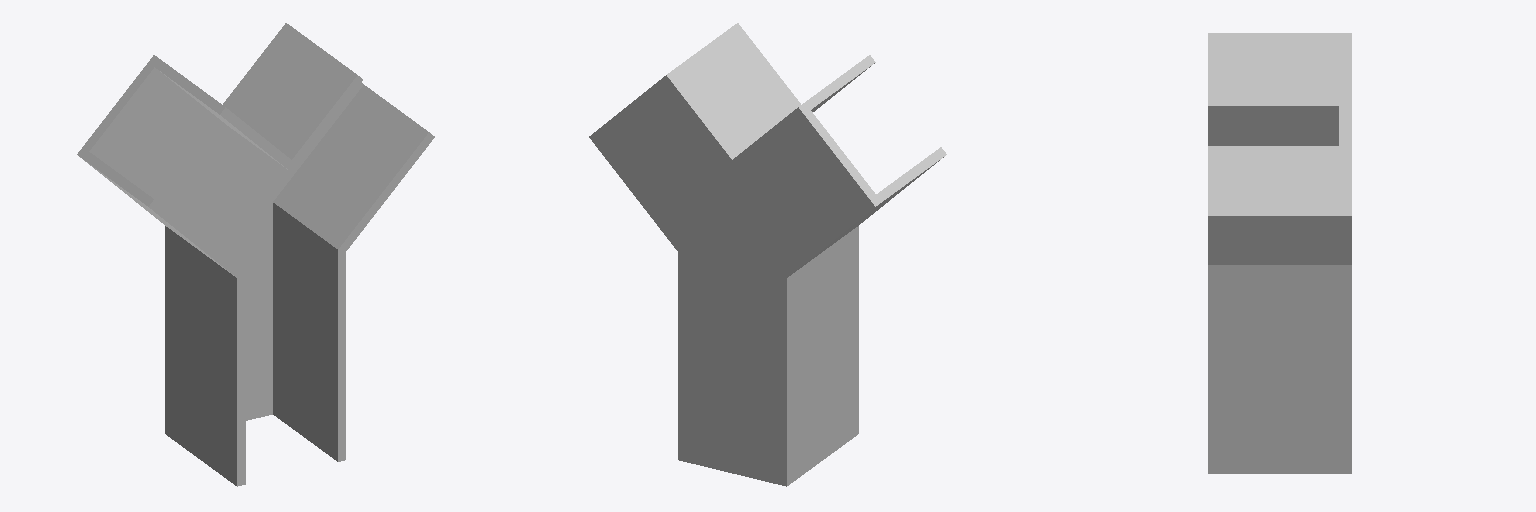
The picture shows the model from 3 angles: view 1: azimuth 30°, elevation 25°; view 2: azimuth 150°, elevation 25°; view 3: azimuth 270°, elevation 25°; orthographic projection.
Parts seen in each view (by area): view 1: A-WALL-EXTR 09___PAINT-13_GREEN, A-FLOR 09___PAINT-12_YELLOW, A-WALL-EXTR 09___PAINT-09_RED, A-WALL-EXTR 09___PAINT-16_BLUE, A-FLOR 09___PAINT-16_BLUE; view 2: A-FLOR 09___PAINT-12_YELLOW, A-WALL-EXTR 09___PAINT-09_RED, A-FLOR 09___PAINT-16_BLUE, A-WALL-EXTR 09___PAINT-16_BLUE; view 3: A-WALL-EXTR 09___PAINT-09_RED, A-WALL-EXTR 09___PAINT-13_GREEN, A-FLOR 09___PAINT-16_BLUE, A-WALL-EXTR 09___PAINT-16_BLUE.
Part boxes in pixels (left/top/right/bottom): A-WALL-EXTR 09___PAINT-13_GREEN: left=160, top=71, right=428, bottom=461; A-FLOR 09___PAINT-12_YELLOW: left=89, top=67, right=363, bottom=420; A-WALL-EXTR 09___PAINT-09_RED: left=87, top=27, right=356, bottom=485; A-WALL-EXTR 09___PAINT-16_BLUE: left=83, top=60, right=434, bottom=486; A-FLOR 09___PAINT-16_BLUE: left=77, top=23, right=291, bottom=438; A-FLOR 09___PAINT-12_YELLOW: left=589, top=75, right=874, bottom=486; A-WALL-EXTR 09___PAINT-09_RED: left=673, top=23, right=943, bottom=481; A-FLOR 09___PAINT-16_BLUE: left=667, top=70, right=881, bottom=485; A-WALL-EXTR 09___PAINT-16_BLUE: left=805, top=55, right=946, bottom=201; A-WALL-EXTR 09___PAINT-09_RED: left=1208, top=33, right=1338, bottom=473; A-WALL-EXTR 09___PAINT-13_GREEN: left=1208, top=106, right=1338, bottom=206; A-FLOR 09___PAINT-16_BLUE: left=1339, top=33, right=1351, bottom=473; A-WALL-EXTR 09___PAINT-16_BLUE: left=1208, top=97, right=1338, bottom=215.
Size of the model in its own units: 7.75 by 9.88 by 3.35.